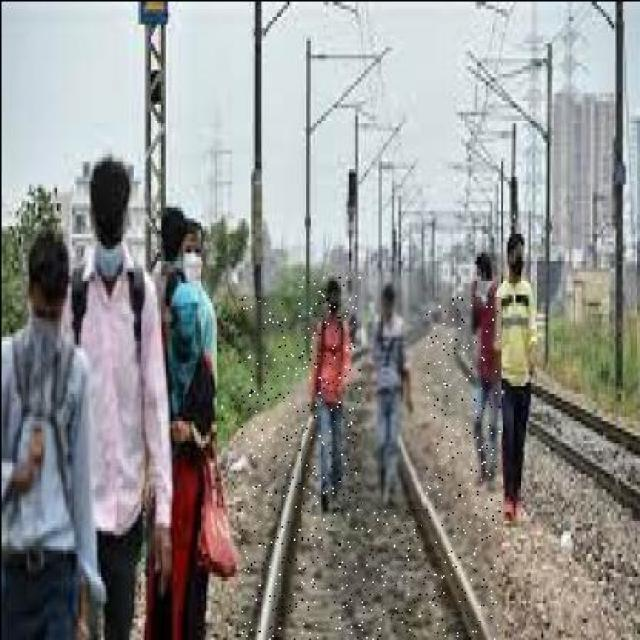danger: (359, 274, 424, 508), (300, 276, 358, 530)
rail: (240, 296, 498, 638)
